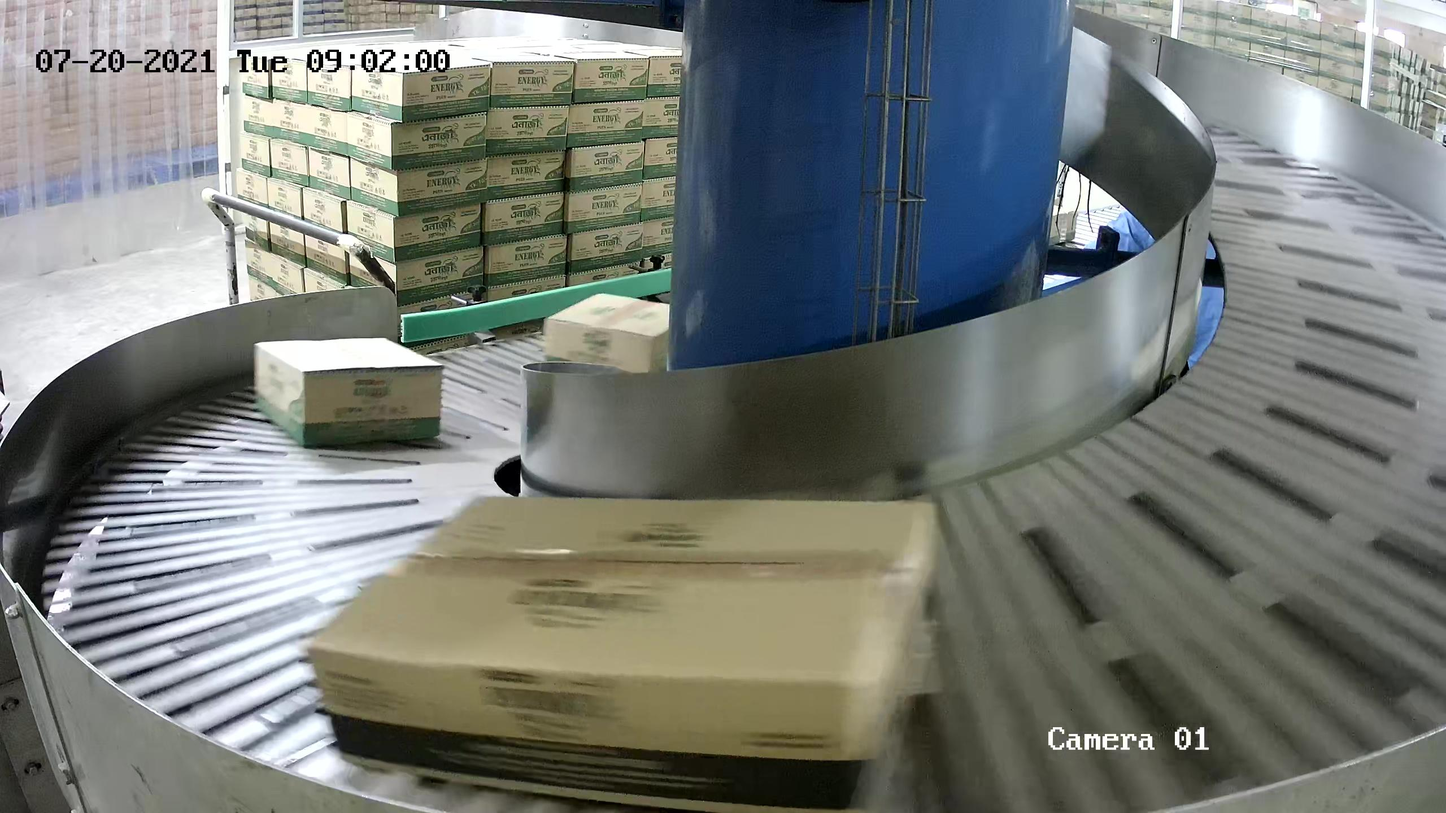Box: (303, 490, 953, 813), (251, 335, 447, 450), (542, 292, 671, 374)
